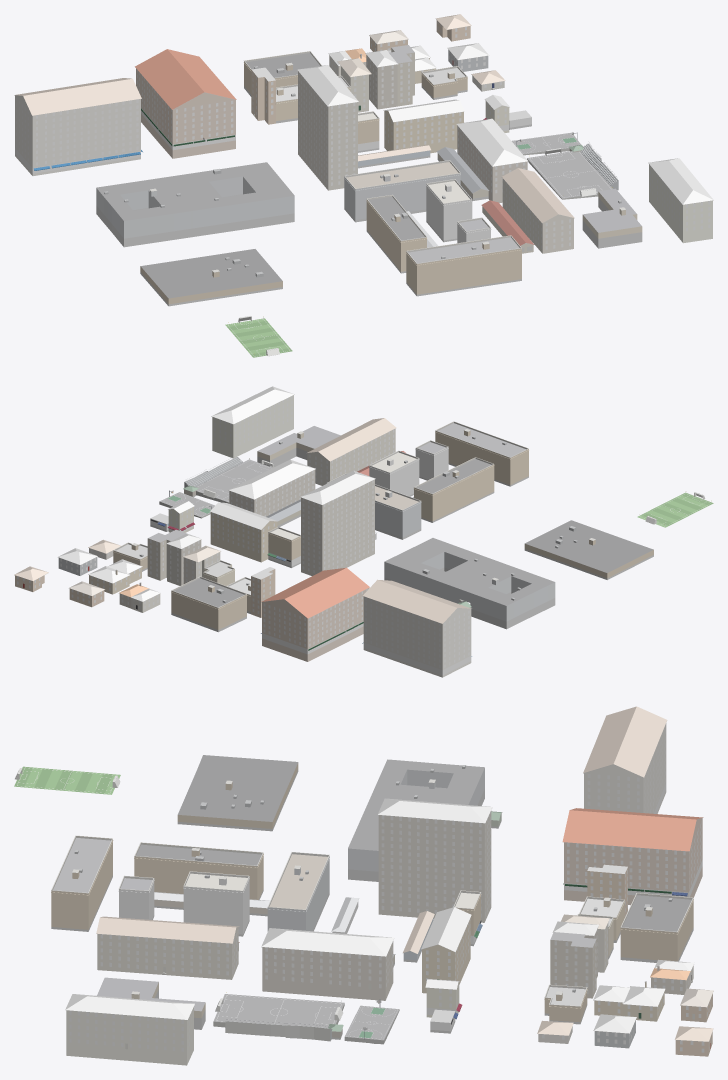
The model's file is bld_-1_0.dae.
3 views of the same model, one above another, from view 1: azimuth 30°, elevation 25°; view 2: azimuth 150°, elevation 25°; view 3: azimuth 270°, elevation 25° (orthographic). The views are drawn at different scales.
Parts seen in each view (by area): view 1: blda1990; view 2: blda1990; view 3: blda1990.
Boxes of the visible parts, <box> form: blda1990: <box>14,14,713,357</box>; blda1990: <box>14,386,713,677</box>; blda1990: <box>14,706,713,1065</box>.
Size of the model in its own units: 271 by 274 by 51.66.
